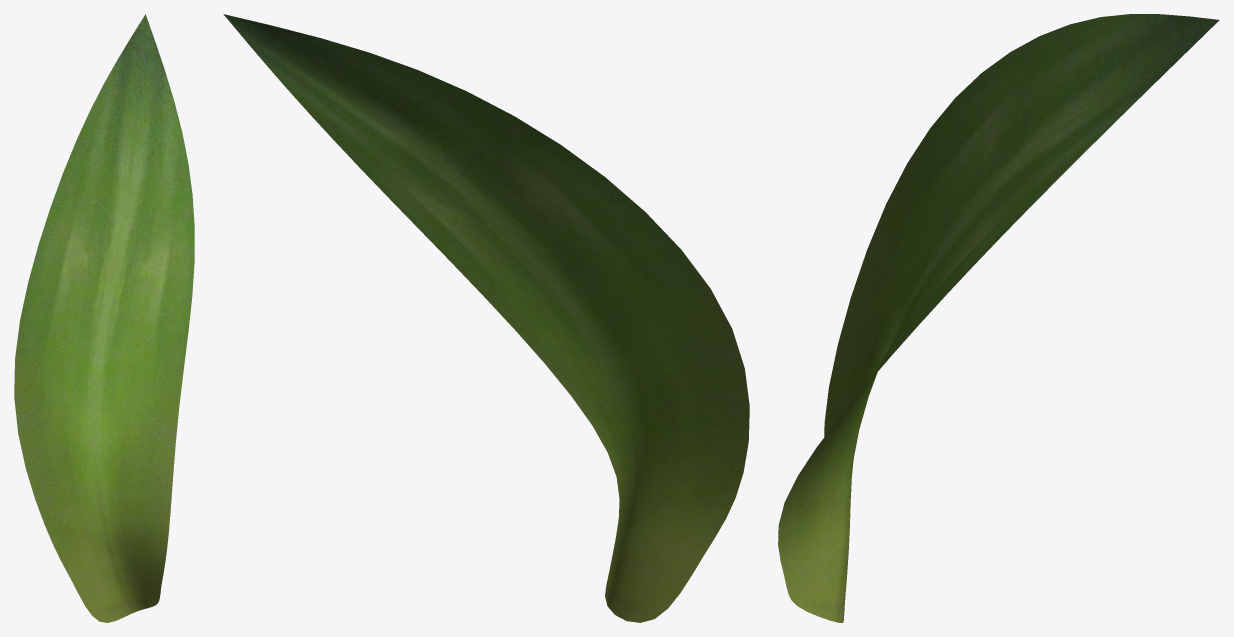
3 renders of one model, left to right at view 1: azimuth 30°, elevation 25°; view 2: azimuth 150°, elevation 25°; view 3: azimuth 270°, elevation 25°, orthographic. The views are drawn at different scales.
Parts seen in each view (by area): view 1: indoor plant_02.009; view 2: indoor plant_02.009; view 3: indoor plant_02.009.
Part boxes in pixels (left/top/right/bottom): indoor plant_02.009: left=14, top=14, right=194, bottom=622; indoor plant_02.009: left=223, top=14, right=749, bottom=622; indoor plant_02.009: left=778, top=14, right=1219, bottom=622.
Size of the model in its own units: 0.6565 by 1.22 by 0.6844.
1 material, 1 textured.
